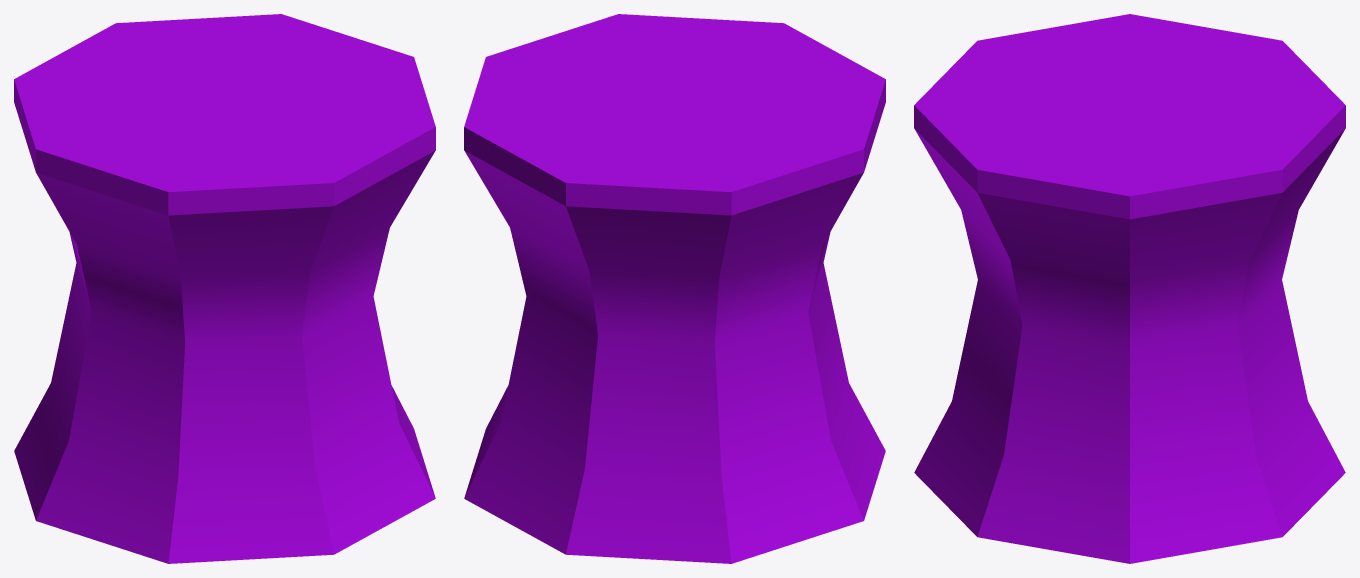
Rendered from sm_table3_low.fbx.
3 renders of one model, left to right at view 1: azimuth 30°, elevation 25°; view 2: azimuth 150°, elevation 25°; view 3: azimuth 270°, elevation 25°, orthographic.
Parts seen in each view (by area): view 1: table2; view 2: table2; view 3: table2.
Boxes of the visible parts, bbox=[...] form: table2: bbox=[14, 14, 435, 563]; table2: bbox=[464, 14, 885, 563]; table2: bbox=[914, 14, 1345, 563].
Bounding box in the file's own units: 114 × 107 × 114.
